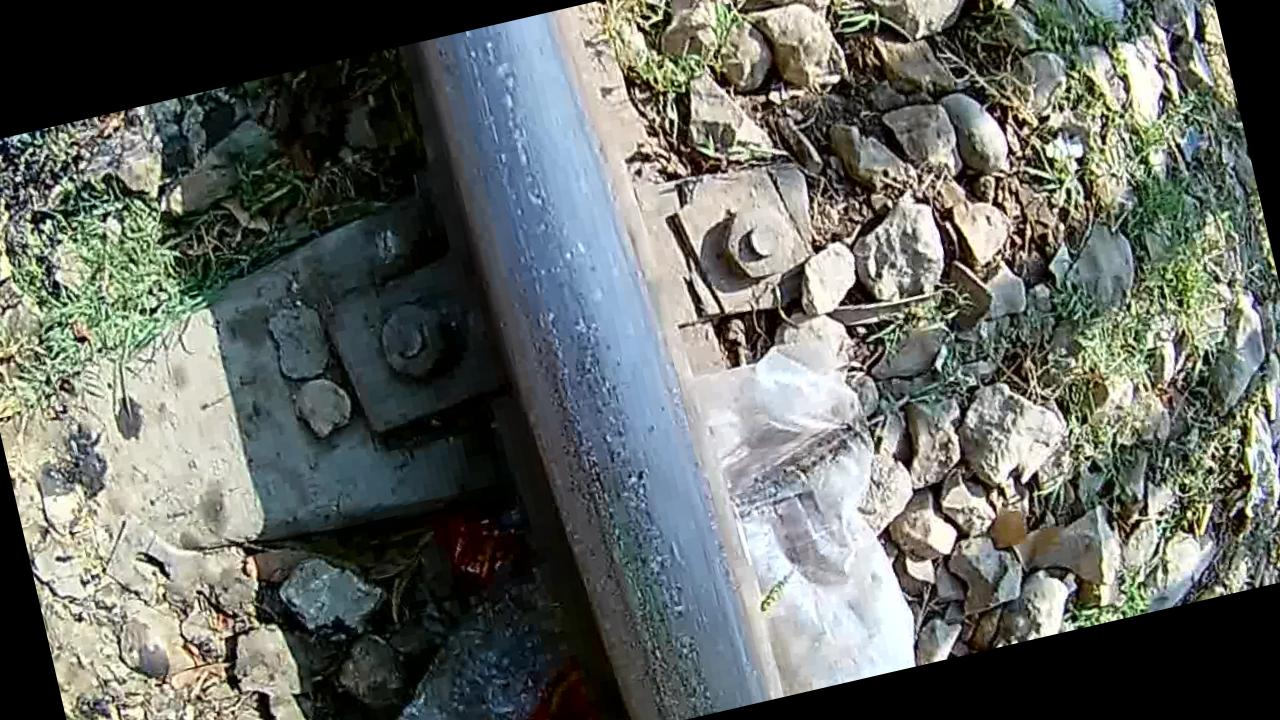clip_missing: (449, 2, 750, 720)
